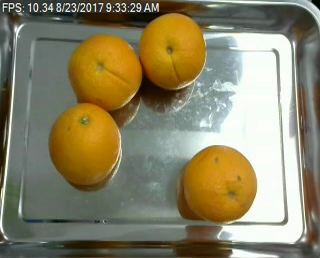Orange: (49, 103, 122, 186), (180, 144, 257, 221), (67, 34, 143, 110), (137, 12, 206, 90)
